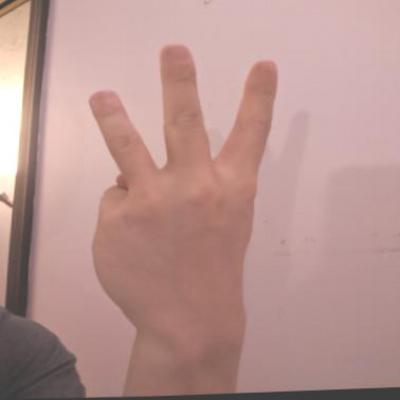hand: (73, 34, 288, 340)
